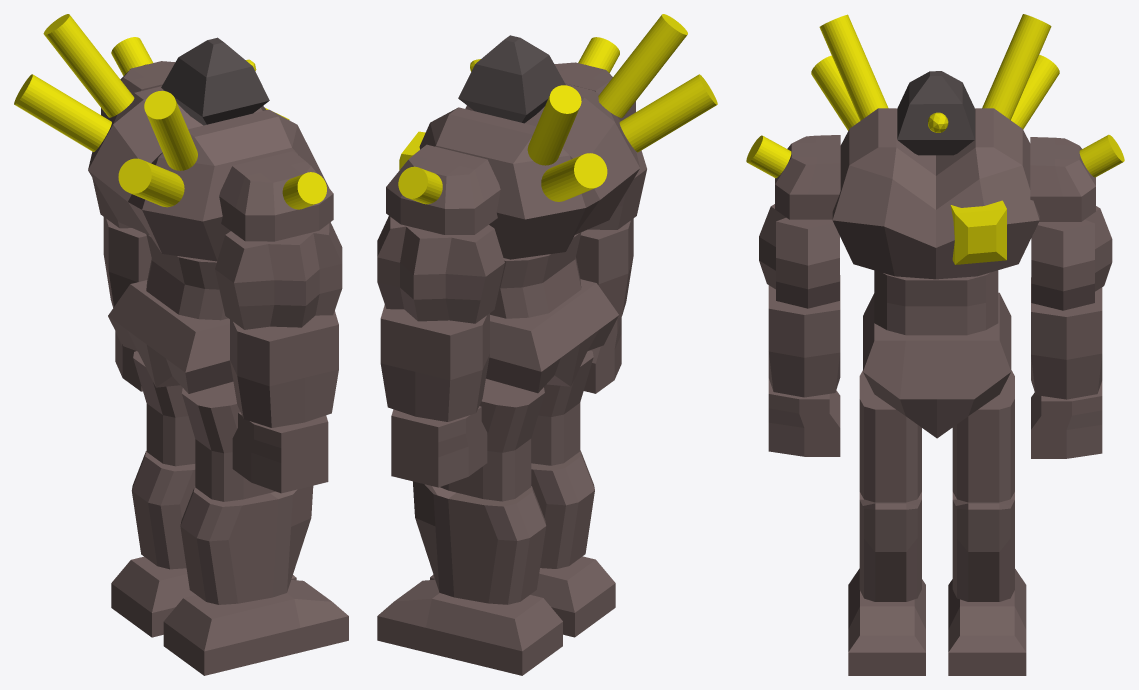
The model's file is RangedEnemyWithColor.fbx.
The picture shows the model from 3 angles, left to right: view 1: azimuth 30°, elevation 25°; view 2: azimuth 150°, elevation 25°; view 3: azimuth 270°, elevation 25°; orthographic projection. The views are drawn at different scales.
Visible parts, largest first — view 1: Cube.001, Cube.016, Cube.017, Cube.012, Cube.009, Cube.003, Cube.011, Cube.010, Cube, Cube.015, Cube.005, Cube.006 (+11 smaller); view 2: Cube.001, Cube.005, Cube.006, Cube.008, Cube.013, Cube.003, Cube.007, Cube.004, Cube.014, Cube, Cube.016, Cube.002 (+12 smaller); view 3: Cube.001, Cube.003, Cube.002, Cube.009, Cube.013, Cube.012, Cube.008, Cube.006, Cube.016, Cube.005, Cube.017, Cube.015 (+13 smaller).
Boxes of the visible parts, x1,y1,x2,y2 form: Cube.001: (88, 86, 328, 261); Cube.016: (180, 486, 313, 604); Cube.017: (163, 580, 348, 675); Cube.012: (215, 222, 342, 329); Cube.009: (230, 311, 338, 427); Cube.003: (108, 280, 233, 393); Cube.011: (219, 151, 333, 241); Cube.010: (232, 412, 328, 493); Cube: (161, 37, 269, 125); Cube.015: (182, 381, 275, 501); Cube.005: (131, 451, 195, 569); Cube.006: (111, 556, 296, 637); Cube.001: (419, 83, 639, 259); Cube.005: (413, 481, 546, 604); Cube.006: (377, 579, 562, 675); Cube.008: (377, 216, 504, 323); Cube.013: (380, 304, 489, 421); Cube.003: (486, 279, 618, 393); Cube.007: (386, 144, 500, 234); Cube.004: (440, 378, 544, 501); Cube.014: (391, 406, 487, 487); Cube: (458, 35, 565, 123); Cube.016: (531, 450, 594, 568); Cube.002: (490, 232, 581, 318); Cube.001: (832, 108, 1039, 279); Cube.003: (863, 292, 1011, 438); Cube.002: (874, 270, 998, 335); Cube.009: (768, 275, 840, 397); Cube.013: (1031, 277, 1102, 399); Cube.012: (759, 204, 839, 308); Cube.008: (1031, 206, 1112, 310); Cube.006: (948, 569, 1026, 675); Cube.016: (859, 492, 921, 601); Cube.005: (952, 492, 1014, 601); Cube.017: (848, 568, 925, 675); Cube.015: (859, 370, 921, 502).
Size of the model in its own units: 277 by 667 by 398.
